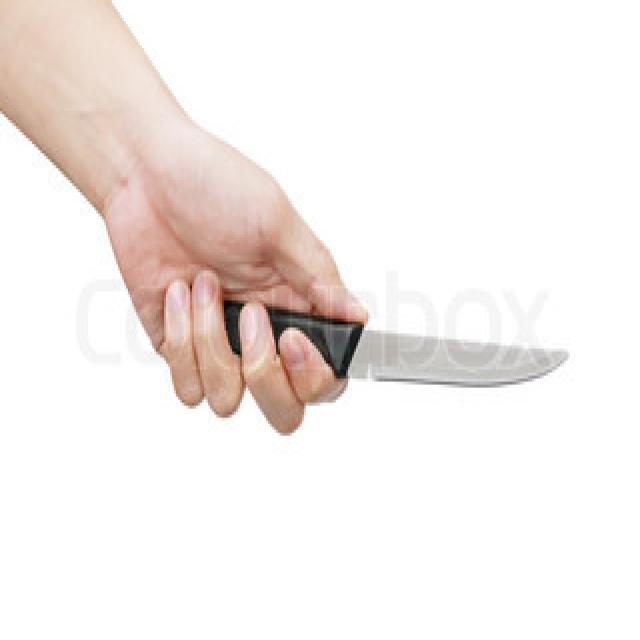knife: (272, 309, 584, 398)
